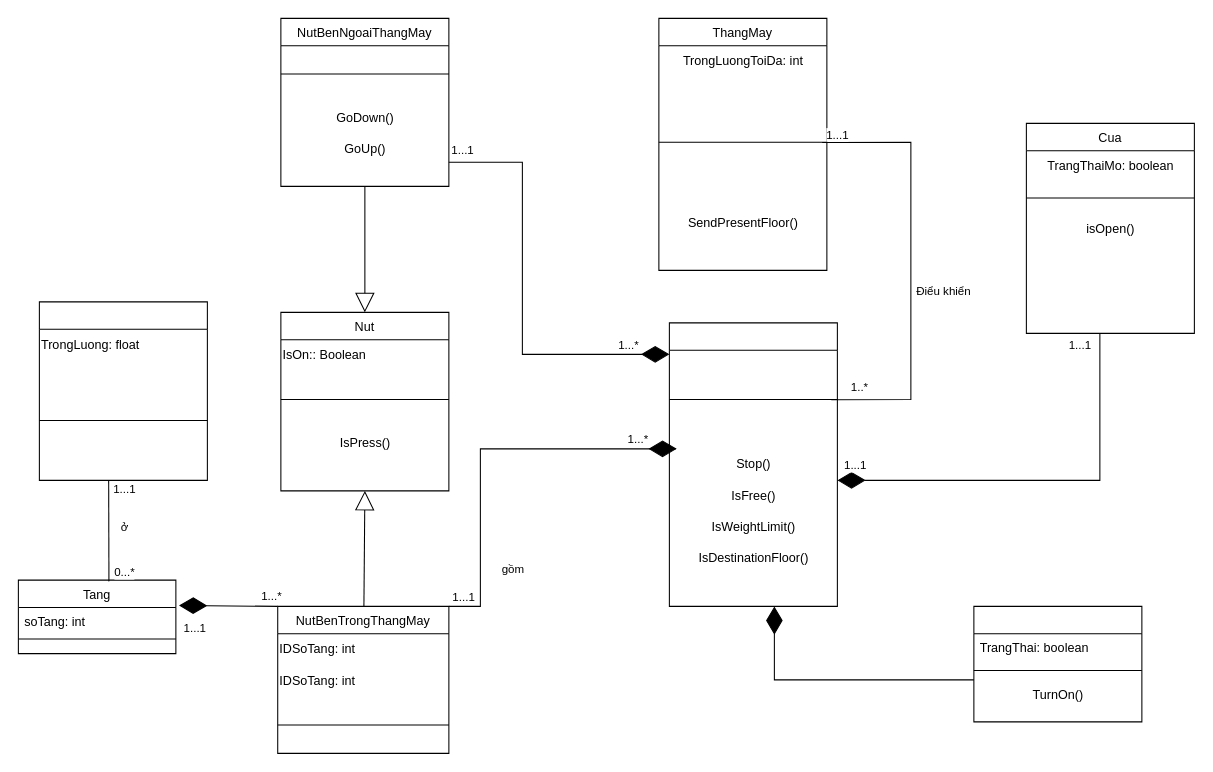
The diagram is 1213 pixels wide and 772 high, and some of its shapes have lost their labels. The box of each missing label's shape, as (x1, y1, x2, y2) in pixels:
BoDieuKhienTrungTam: (668, 322, 837, 606)
Den: (973, 605, 1142, 722)
NguoiSuDung: (38, 301, 207, 480)
